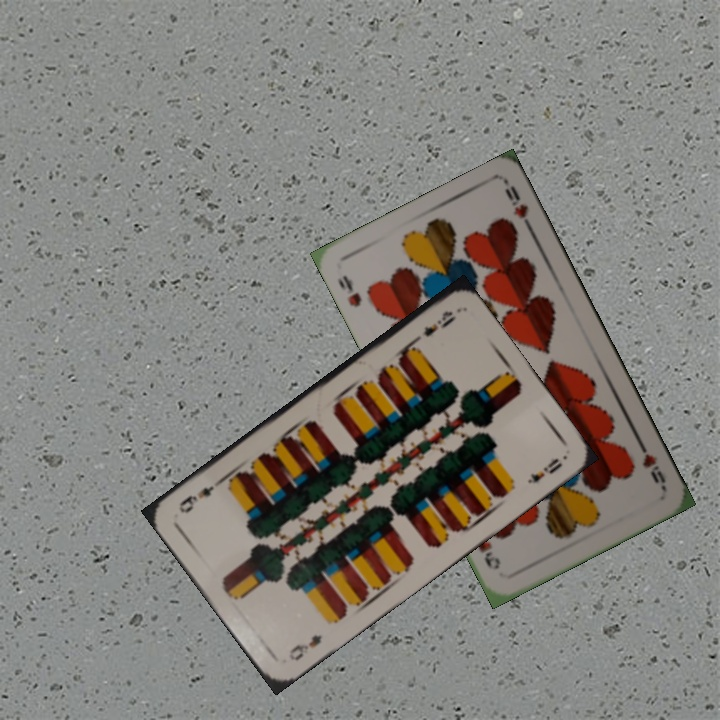E9: (408, 306, 459, 347), (285, 630, 325, 664)
H9: (634, 437, 669, 492), (333, 271, 364, 310)
